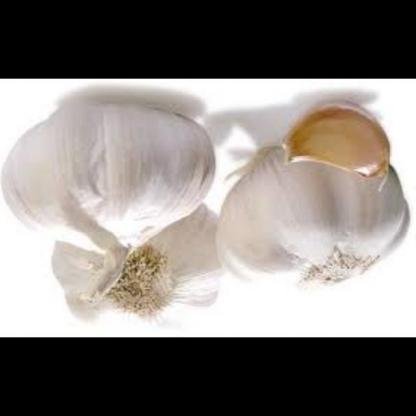garlic: (0, 92, 220, 268), (209, 129, 411, 301), (36, 209, 231, 338), (272, 101, 394, 178)
